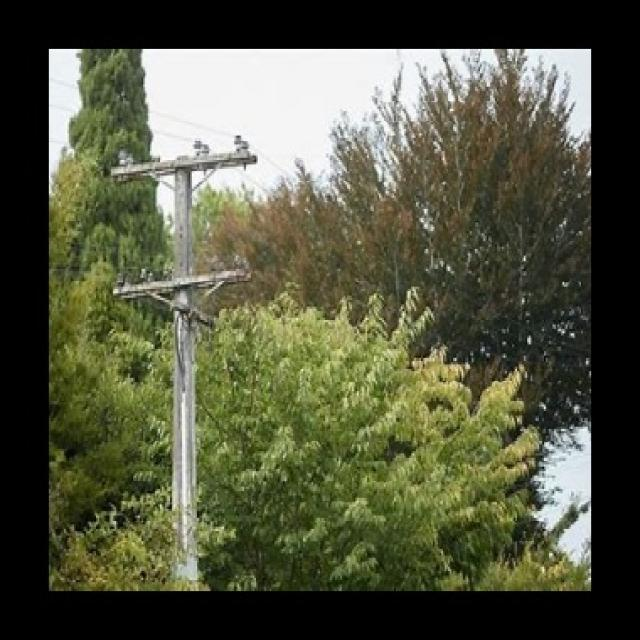utility poles: (98, 127, 292, 587)
